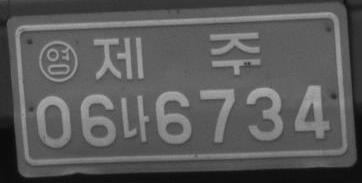0: (35, 94, 72, 149)
3: (246, 86, 285, 142)
4: (294, 84, 331, 140)
6: (80, 93, 118, 148), (155, 90, 192, 146)
7: (199, 87, 236, 143)
나: (120, 94, 150, 142)
영: (38, 39, 79, 83)
제주_D: (92, 31, 263, 79)
